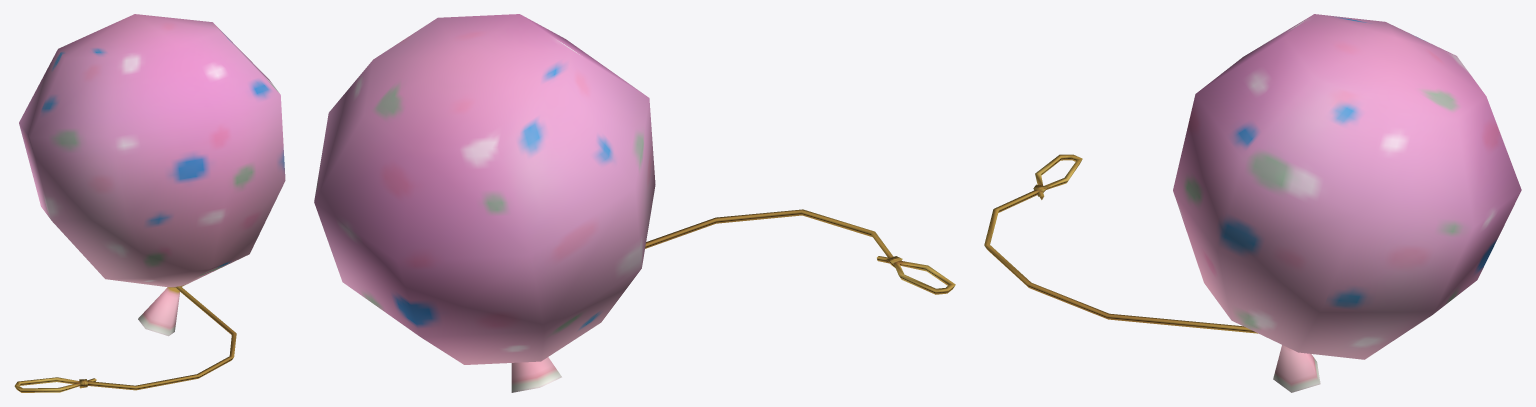
Rendered from jsf_WaterBalloon_19_c.fbx.
3 views of the same model, side by side, from view 1: azimuth 30°, elevation 25°; view 2: azimuth 150°, elevation 25°; view 3: azimuth 270°, elevation 25° (orthographic). The views are drawn at different scales.
Visible parts, largest first — view 1: jsf_WaterBalloon_19_c; view 2: jsf_WaterBalloon_19_c; view 3: jsf_WaterBalloon_19_c.
Part boxes in pixels (x1=…): jsf_WaterBalloon_19_c: x1=14, y1=14, x2=285, y2=392; jsf_WaterBalloon_19_c: x1=314, y1=14, x2=955, y2=392; jsf_WaterBalloon_19_c: x1=984, y1=14, x2=1521, y2=392.
Bounding box in the file's own units: 16.89 × 12.55 × 17.11.
